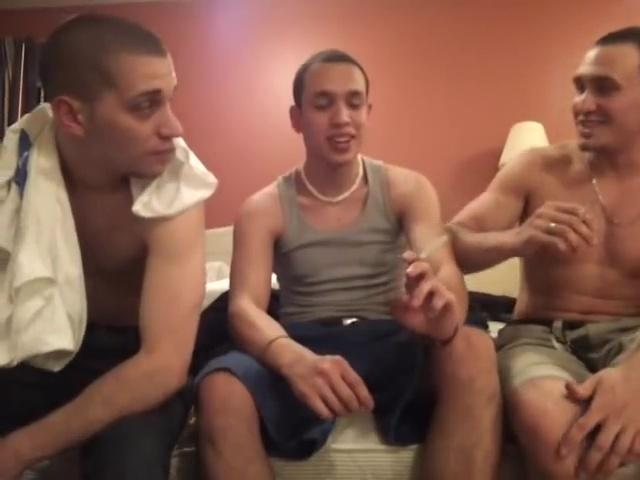cigarette: (413, 229, 455, 268), (578, 196, 599, 222)
